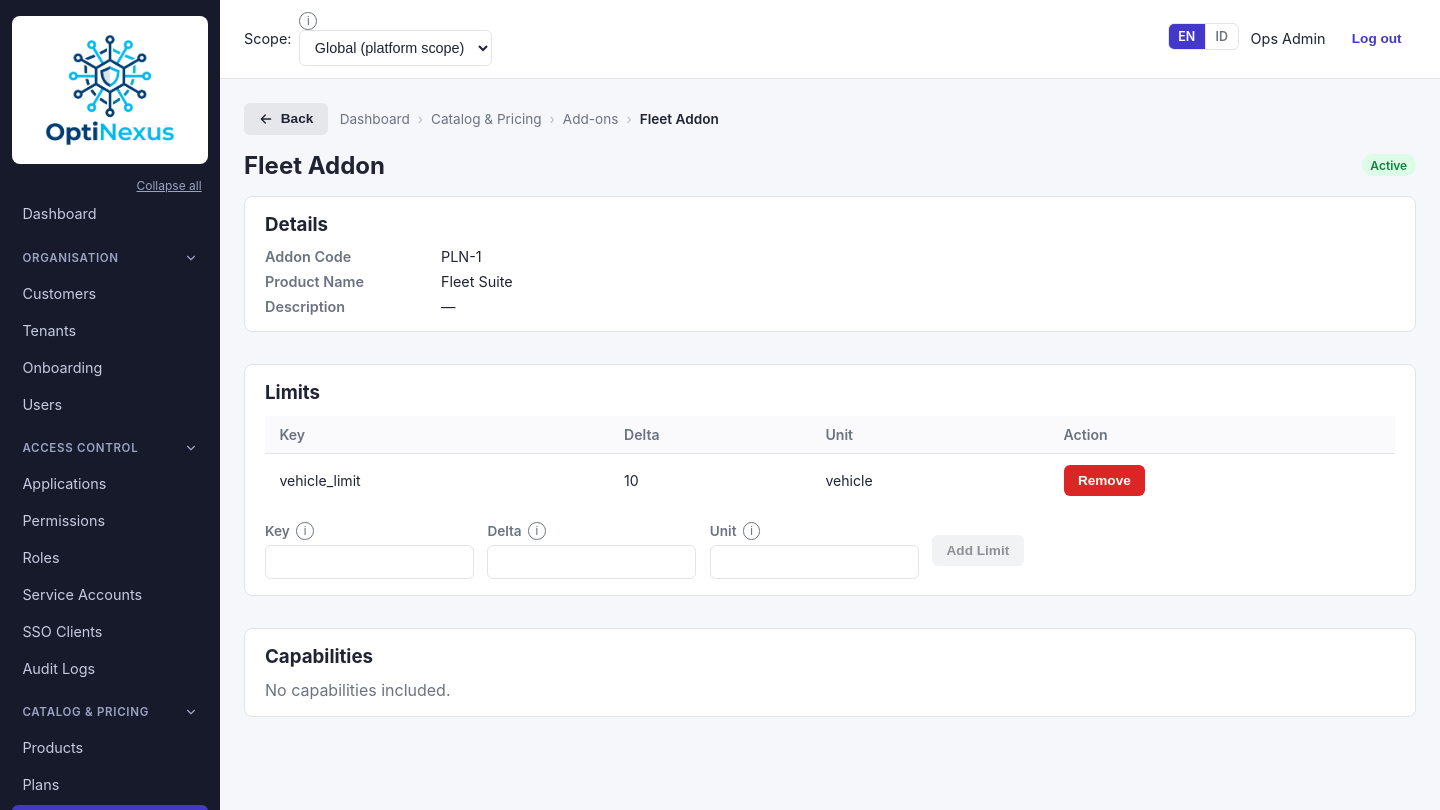
Test: keeps the limit and confirmation available when removal fails
Click the button with aria-label "Remove limit vehicle_limit" at (1104, 480), box [1064,465,1145,496]
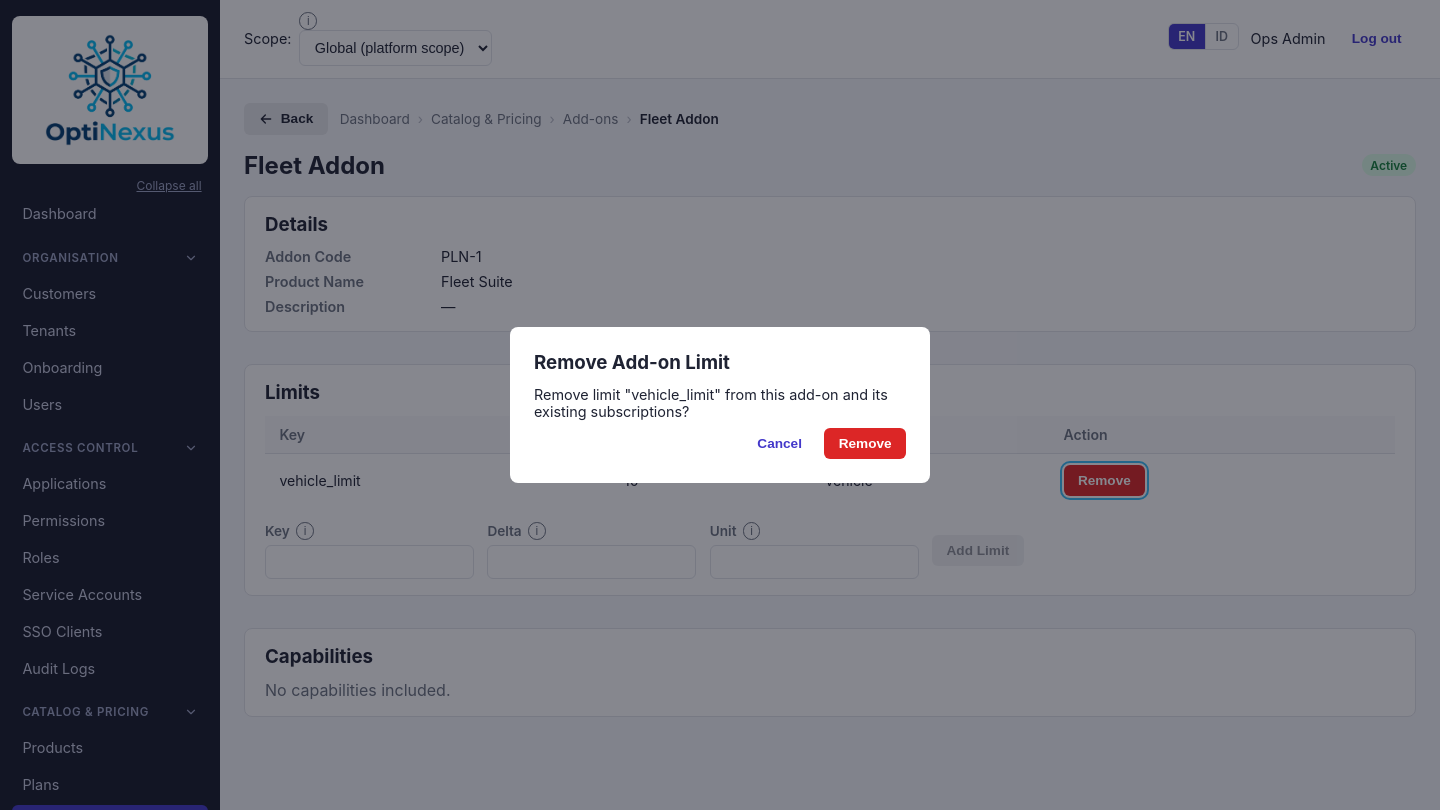
Click the button "Remove" at (865, 444), box [824,428,906,459]
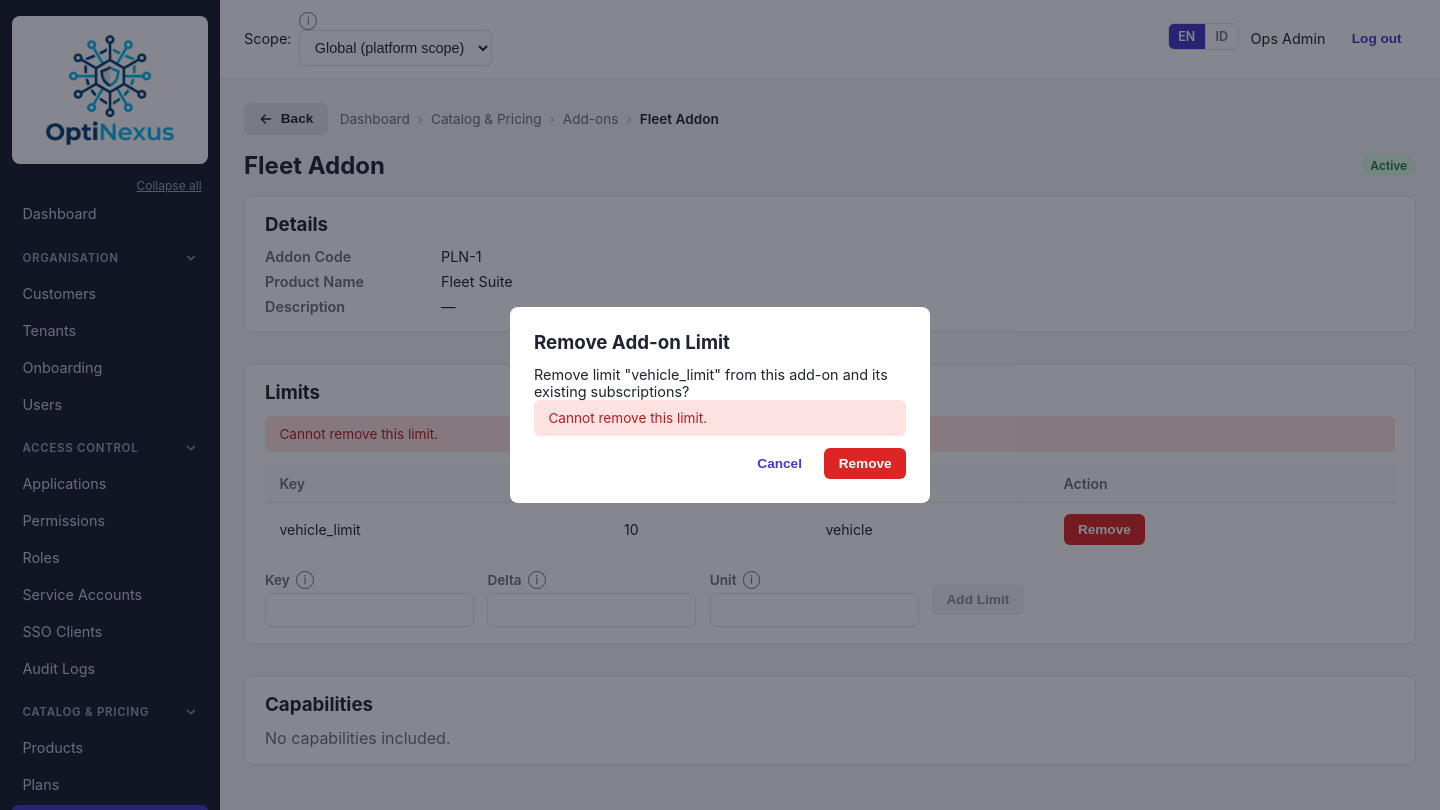
Expected: the button with aria-label "Remove limit vehicle_limit" is shown, [1064,514,1145,544]
Expected: the text "Cannot remove this limit." is shown, [534,400,906,436]
